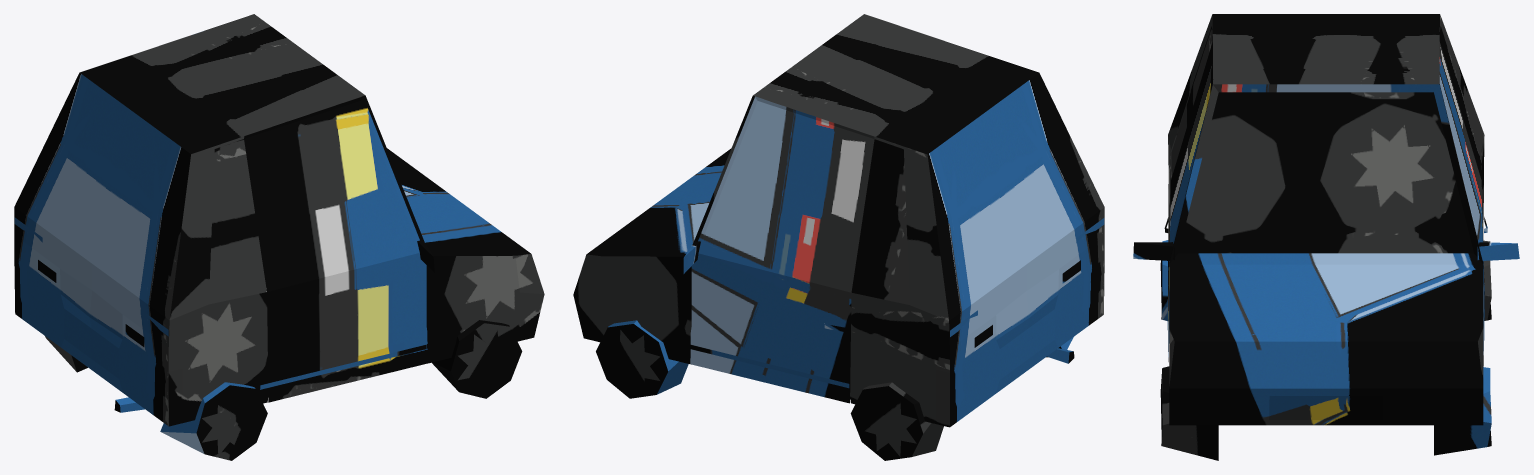
Rendered from Car1Lod0.fbx.
3 views of the same model, side by side, from view 1: azimuth 30°, elevation 25°; view 2: azimuth 150°, elevation 25°; view 3: azimuth 270°, elevation 25° (orthographic).
Parts seen in each view (by area): view 1: lod0; view 2: lod0; view 3: lod0.
Part boxes in pixels (x1=…): lod0: x1=14, y1=14, x2=544, y2=460; lod0: x1=573, y1=14, x2=1104, y2=460; lod0: x1=1133, y1=14, x2=1519, y2=460.
Size of the model in its own units: 355 by 275 by 303.
